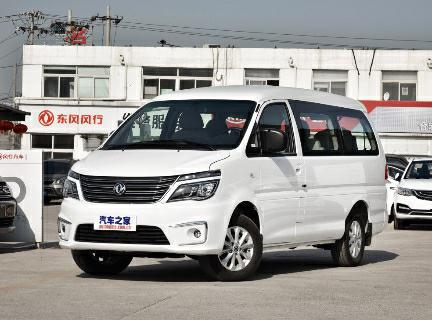东风风行-菱智: (54, 82, 397, 287)
